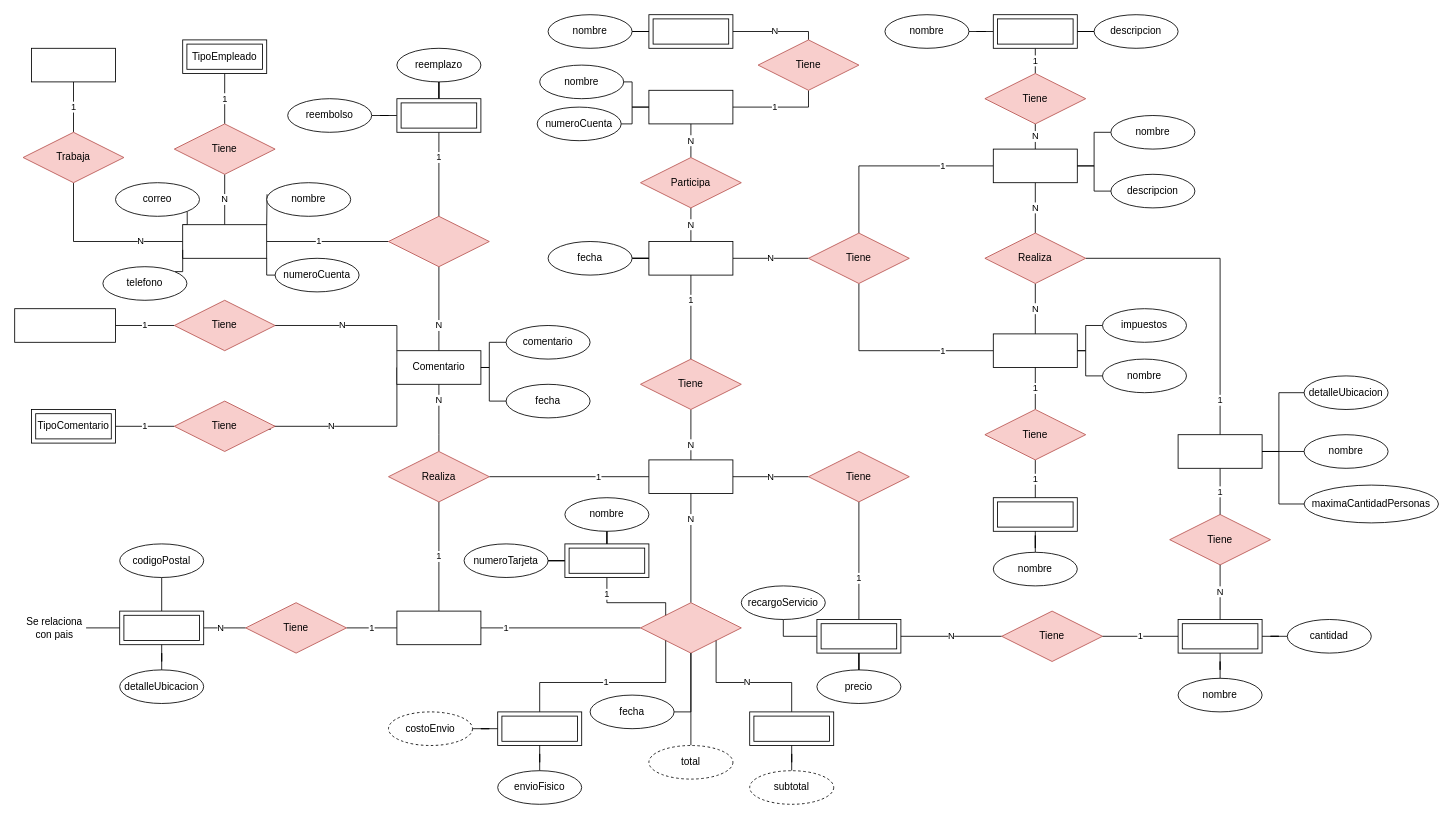
This 1453x819 diagram has some shape labels left out. The centre of each missing label's shape, as x and y in pixels:
Artista: point 690,106
Atiende: point 438,241
Cliente: point 438,627
Compra: point 690,627
Departamento: point 73,64
Detalle: point 791,728
Direccion: point 161,627
Empleado: point 224,241
Entrada: point 690,476
Envio: point 539,728
Evento: point 1034,165
FechaEvento: point 690,258
Integrante: point 690,31
LugarEvento: point 1219,451
MedioComunicacion: point 65,325
MetodoPago: point 606,560
Moneda: point 1034,514
Pais: point 1034,350
Solucion: point 438,115
TipoAsiento: point 1219,636
TipoEntrada: point 858,636
TipoEvento: point 1034,31
